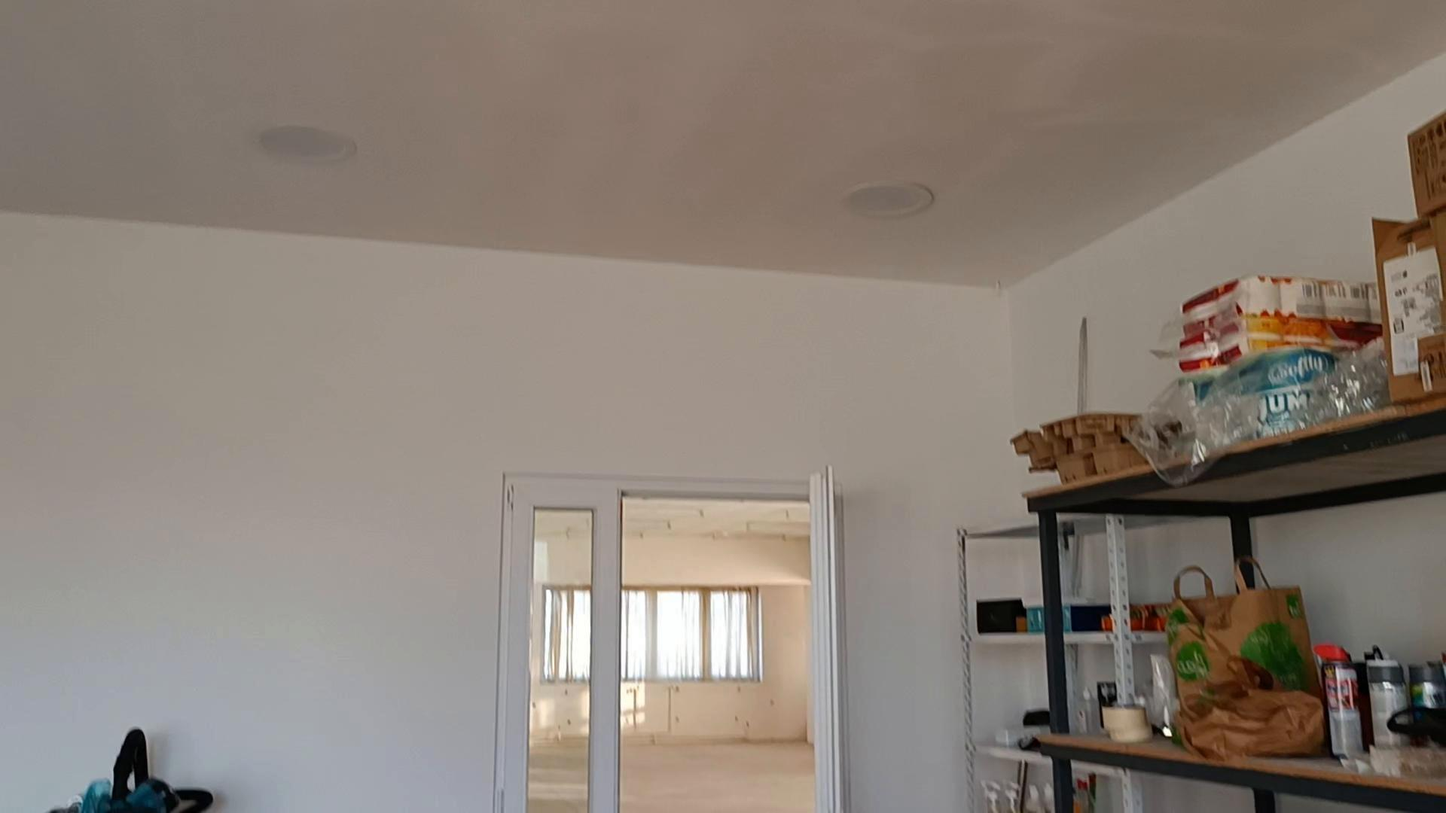ceiling: (0, 0, 1445, 284)
floor: (620, 740, 813, 812)
wall: (0, 0, 1445, 812)
